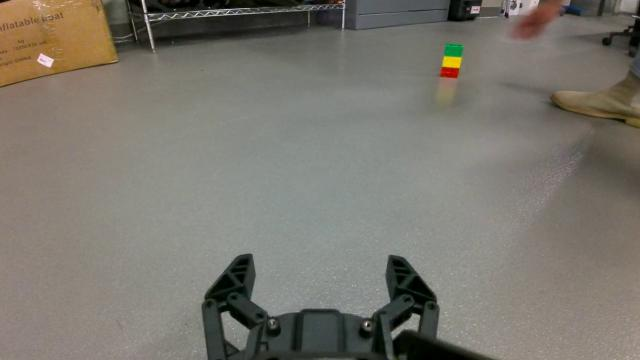lego: (440, 41, 465, 81)
